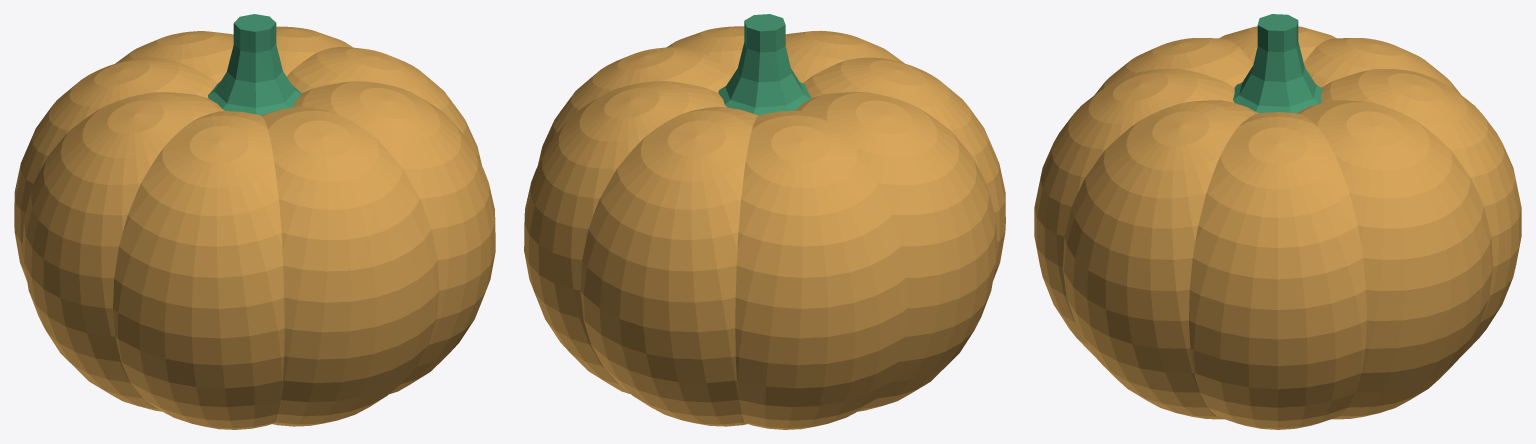
File: pumpkin_1.glb
The picture shows the model from 3 angles, left to right: view 1: azimuth 30°, elevation 25°; view 2: azimuth 150°, elevation 25°; view 3: azimuth 270°, elevation 25°; orthographic projection.
Visible parts, largest first — view 1: Mesh_Mesh_head_geo.001_lambert2SG.001; view 2: Mesh_Mesh_head_geo.001_lambert2SG.001; view 3: Mesh_Mesh_head_geo.001_lambert2SG.001.
Boxes of the visible parts, bbox=[...] form: Mesh_Mesh_head_geo.001_lambert2SG.001: bbox=[14, 14, 495, 429]; Mesh_Mesh_head_geo.001_lambert2SG.001: bbox=[524, 14, 1005, 429]; Mesh_Mesh_head_geo.001_lambert2SG.001: bbox=[1034, 14, 1521, 429].
Bounding box in the file's own units: 10 × 8 × 10.
